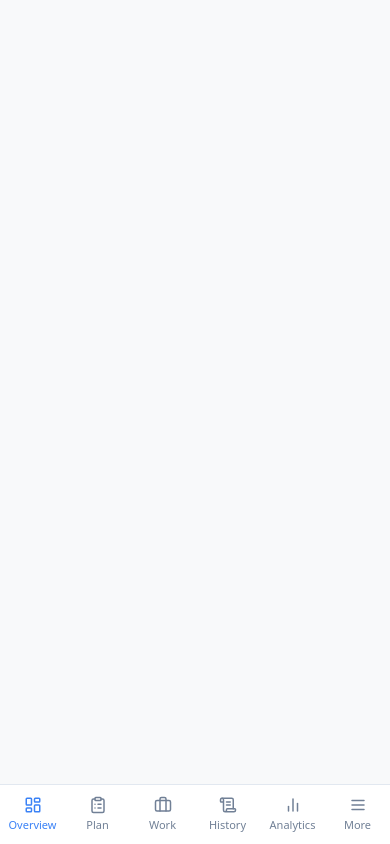
it: BottomTabBar mobile More navigation › filters admin destinations with the shared permission helpers
What coordinates should you click on to do the following:
click the button titled "More"
I would click on:
 (358, 814)
Its box is [325,785,389,843].
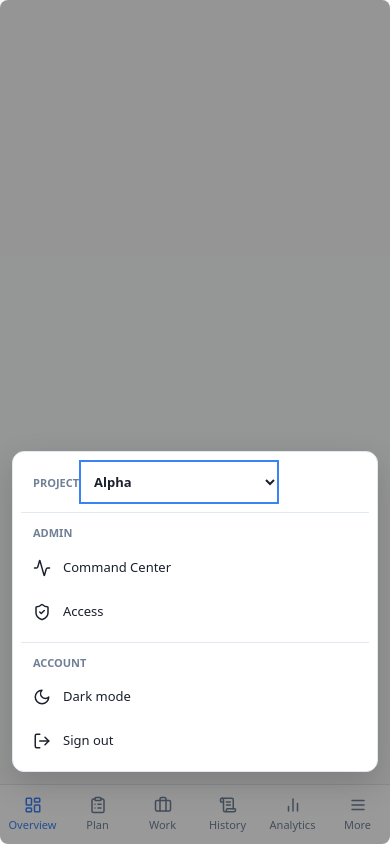
Now the button "Command Center" is shown, box [21,546,369,590]
Now the button "Access" is shown, box [21,590,369,634]
